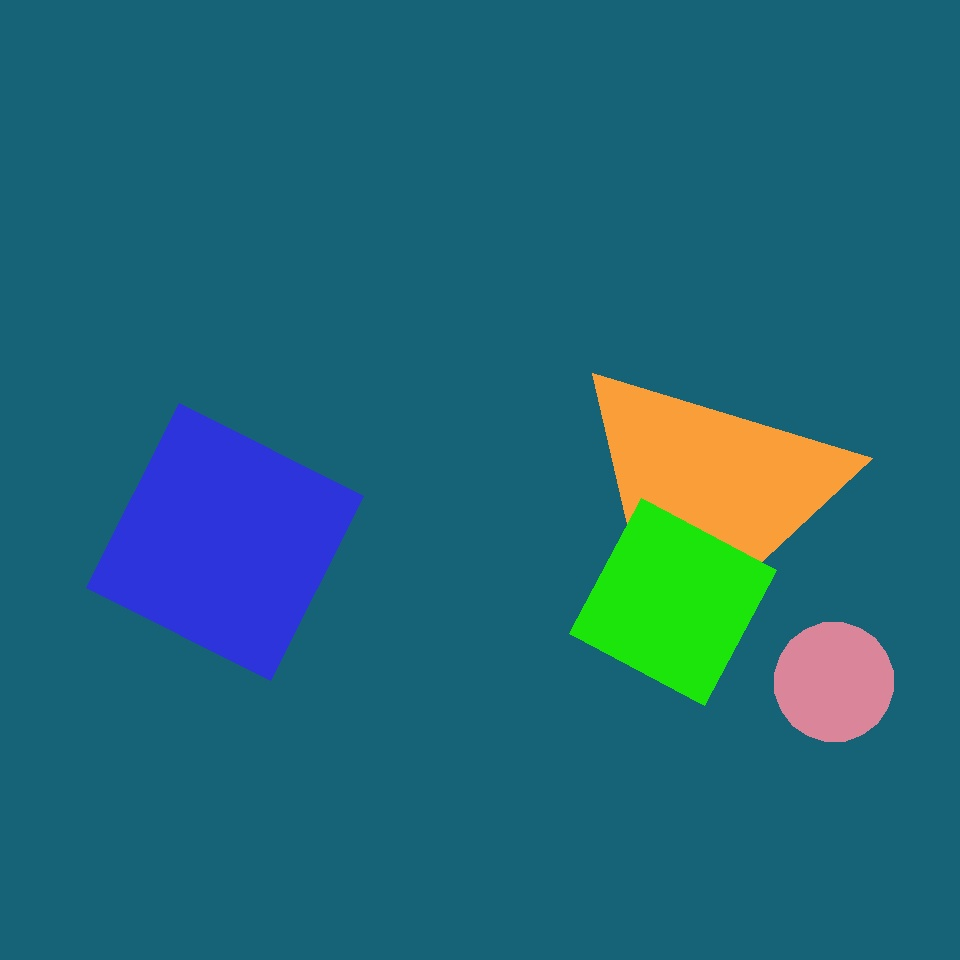circle: (568, 354, 848, 640)
square: (87, 404, 364, 680), (570, 498, 776, 706)
triangle: (118, 99, 466, 446), (596, 327, 832, 564), (774, 622, 894, 742)
